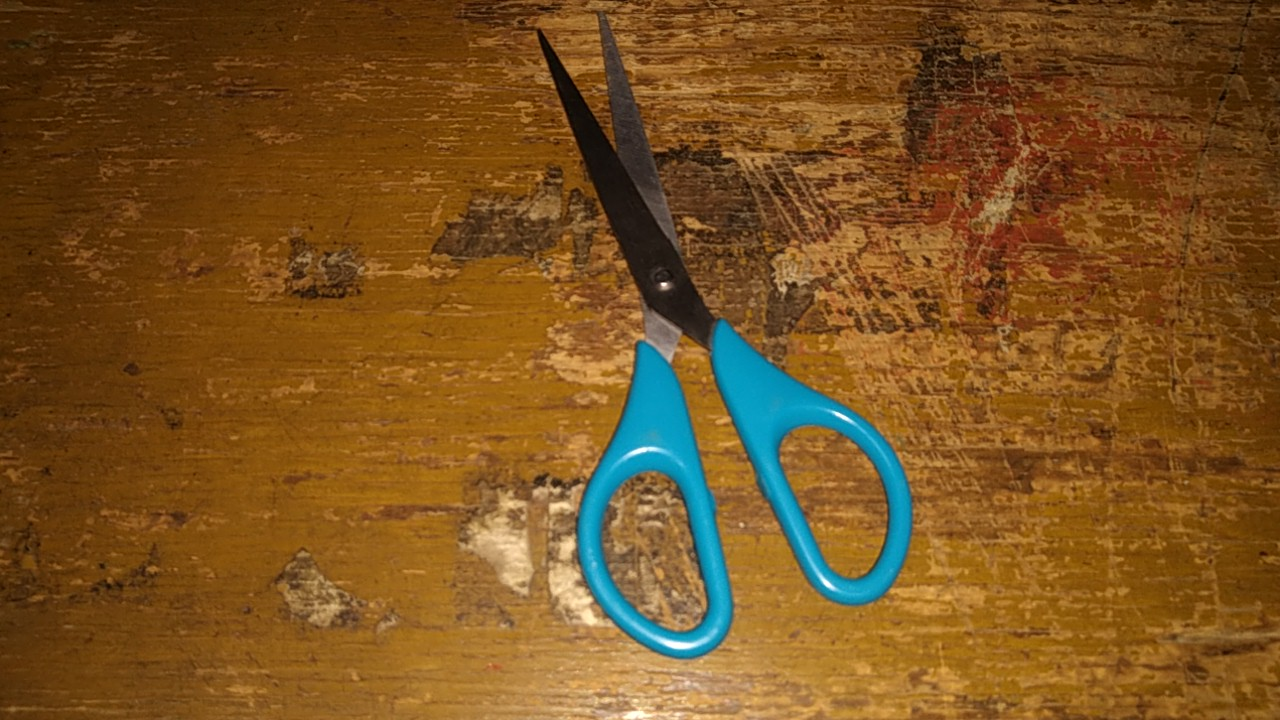scissor: (511, 7, 939, 679)
